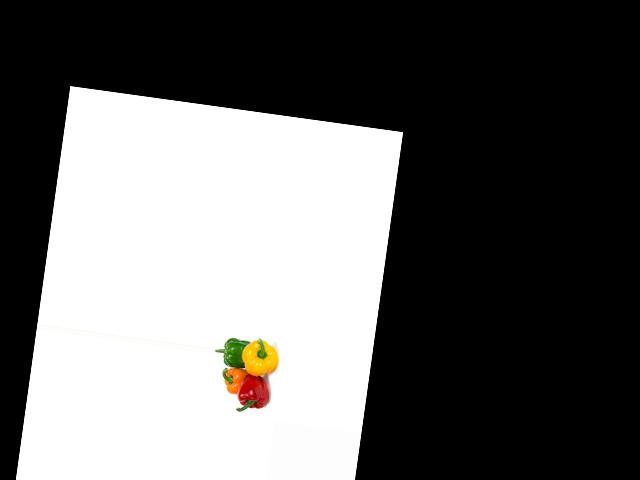bell_pepper: (239, 334, 282, 380)
